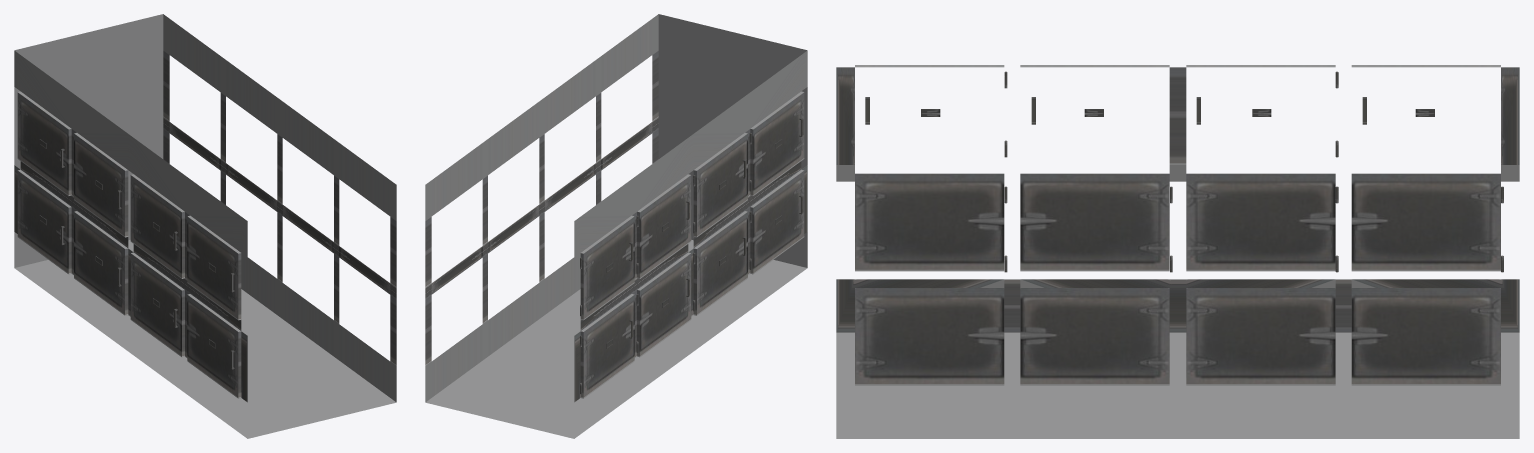
Rendered from Drawers.glb.
3 renders of one model, left to right at view 1: azimuth 30°, elevation 25°; view 2: azimuth 150°, elevation 25°; view 3: azimuth 270°, elevation 25°, orthographic. The views are drawn at different scales.
Visible parts, largest first — view 1: Frame, Handles, NameTag; view 2: Frame, Handles, Hinge, NameTag; view 3: Frame, Hinge.
Boxes of the visible parts, x1,y1,x2,y2 form: Frame: (14, 14, 396, 438); Handles: (61, 148, 234, 369); NameTag: (39, 139, 215, 348); Frame: (425, 14, 807, 438); Handles: (629, 117, 803, 338); Hinge: (580, 133, 751, 394); NameTag: (606, 139, 782, 348); Frame: (836, 65, 1519, 438); Hinge: (1004, 71, 1503, 272).
Size of the model in its own units: 713 by 961 by 1868.
1 material, 1 textured.
